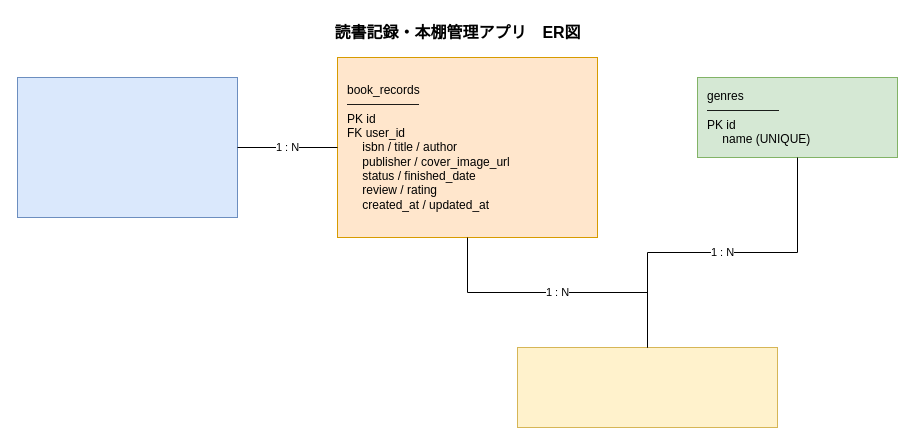
This 915x445 diagram has some shape labels left out. Here are the shapes that lost their labels. From the top down, the centre of each, then its label:
(127,147): users ―――――― PK id email (UNIQUE) password_hash created_at updated_at
(647,387): book_record_genres ―――――― PK,FK book_record_id PK,FK genre_id
